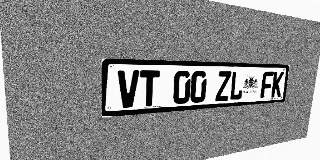0: (173, 71, 191, 105), (190, 71, 207, 103)
F: (260, 72, 274, 98)
K: (271, 72, 284, 98)
L: (229, 71, 244, 101)
T: (139, 70, 160, 107)
V: (117, 70, 139, 108)
Z: (215, 71, 231, 101)
